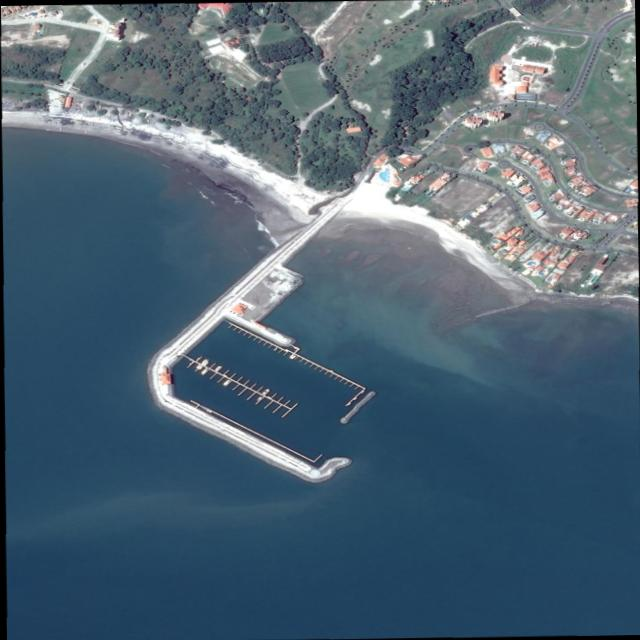ship: (221, 379, 229, 386), (198, 367, 206, 374), (213, 365, 220, 371), (260, 389, 268, 394), (199, 359, 207, 364), (254, 396, 260, 401), (288, 354, 294, 359), (197, 366, 202, 370), (202, 362, 207, 366)
